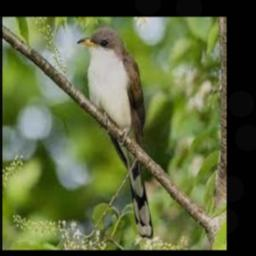Cuckoo: (77, 26, 153, 238)
